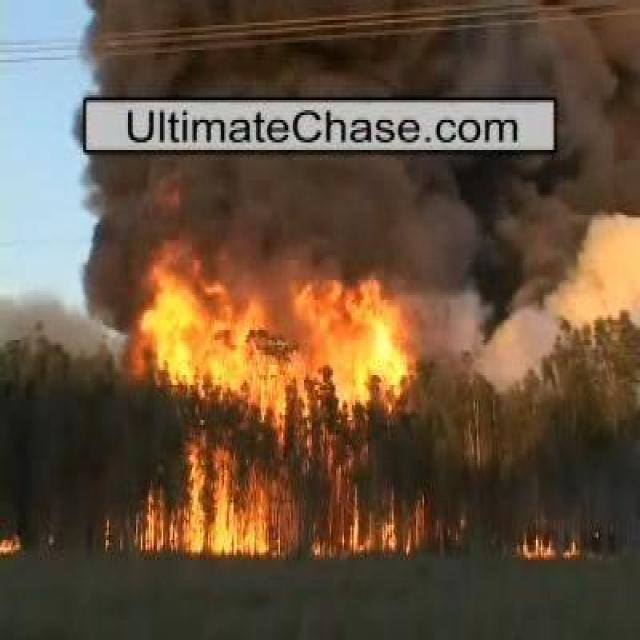Fire: (138, 288, 385, 410), (143, 446, 295, 556)
Smoke: (96, 160, 618, 338)
